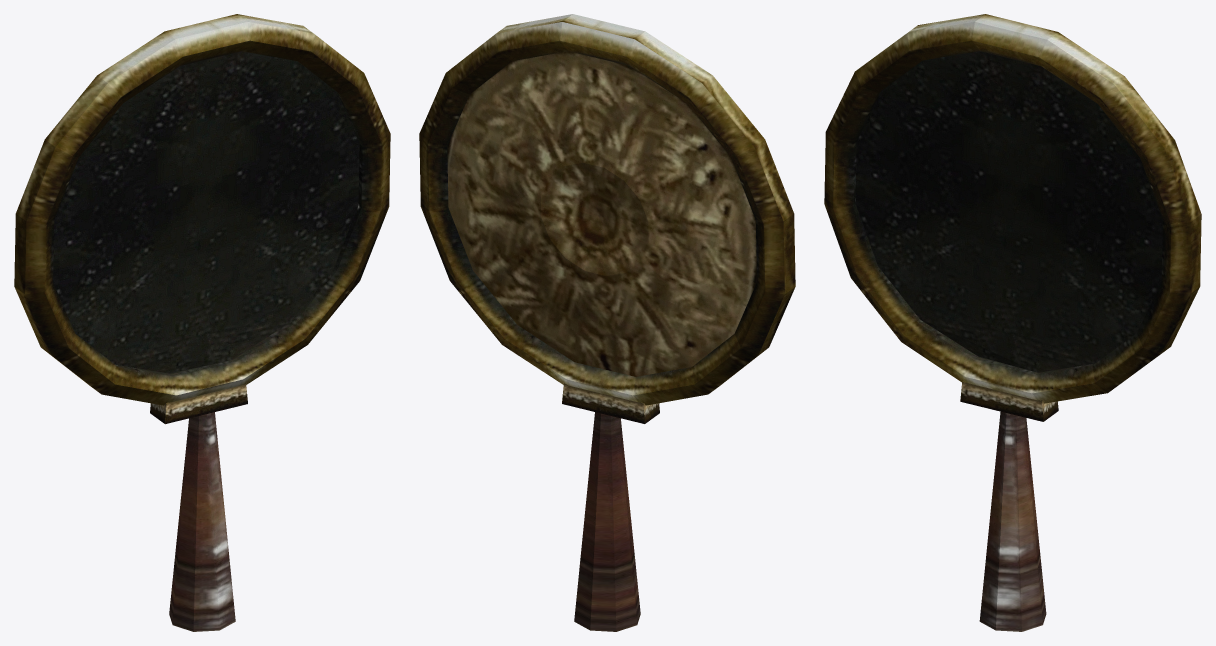
The model's file is mirror.FBX.
The picture shows the model from 3 angles, left to right: view 1: azimuth 30°, elevation 25°; view 2: azimuth 150°, elevation 25°; view 3: azimuth 330°, elevation 25°; orthographic projection.
Parts seen in each view (by area): view 1: glass, wood; view 2: wood; view 3: glass, wood.
Part boxes in pixels (x1,y1,x2,y2): glass: (53, 51, 359, 373); wood: (14, 14, 390, 631); wood: (419, 14, 795, 631); glass: (855, 51, 1162, 372); wood: (824, 14, 1201, 631).
Size of the model in its own units: 14.73 by 22.73 by 2.41.
